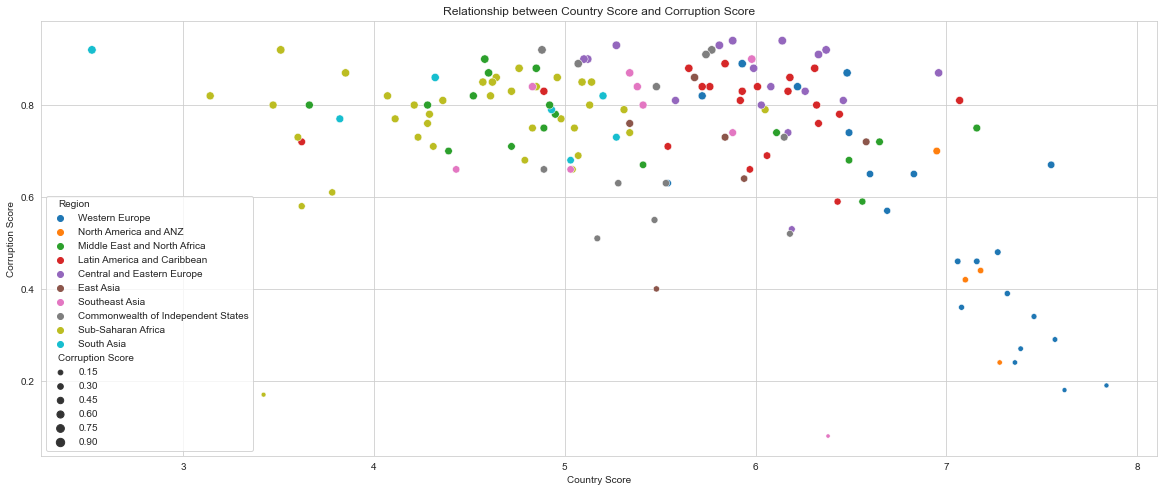

The page's visual inventory and layout, read from the dashboard file:
{"tool":"tableau","page":{"name":"Corr","canvas":[1000,800],"ordinal":0},"visuals":[{"type":"filter","title":"Corruption Score","param":"[federated.168gi1h10k7xlh16hg38707kskvv].[none:Country Name:nk]","box":[828,6,168,61]},{"type":"worksheet","title":"Corruption Score","mark":"Automatic","rows":["Corruption Score"],"cols":["Country Score"],"box":[8,8,984,392]},{"type":"worksheet","title":"Regions","mark":"Automatic","rows":["Region"],"cols":["Country Score"],"box":[8,400,984,392]}]}

Visuals, with their boxes on the page's 1000x800 design canvas (x1, y1, x2, y2). These are canvas units, not pixel positions in the 1164x492 screenshot, which may show the page scaled, cropped or inside an application window:
"Corruption Score" filter: detection(828, 6, 996, 67)
"Corruption Score" worksheet: detection(8, 8, 992, 400)
"Regions" worksheet: detection(8, 400, 992, 792)
